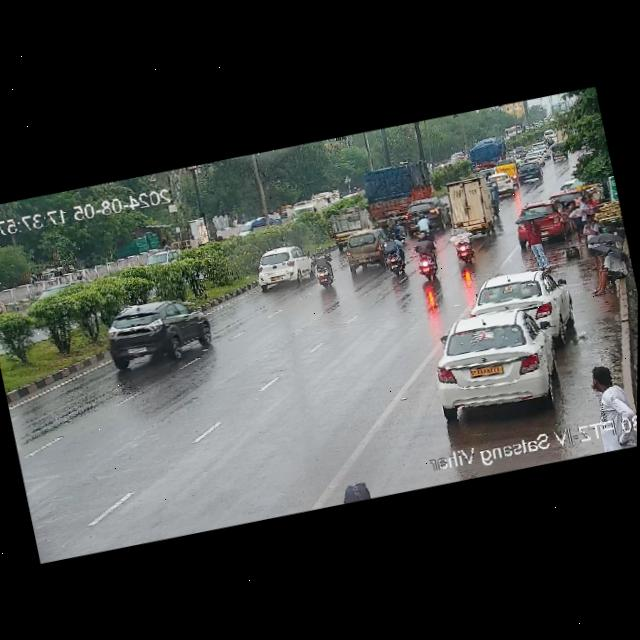car: (428, 302, 570, 422), (94, 287, 215, 373), (471, 262, 571, 339), (247, 243, 313, 291), (336, 226, 387, 273), (402, 192, 451, 234), (537, 196, 570, 239), (508, 139, 552, 166), (144, 244, 181, 267), (515, 158, 542, 186), (494, 161, 522, 187), (489, 171, 519, 195), (545, 185, 581, 204), (549, 141, 568, 162), (524, 149, 543, 164), (0, 285, 3, 319)
motorcycle: (409, 229, 442, 280), (304, 240, 337, 290), (377, 231, 406, 277), (448, 224, 477, 265), (418, 213, 431, 239), (412, 210, 425, 229)
person: (578, 349, 633, 417), (513, 206, 555, 275), (587, 249, 631, 298), (339, 478, 383, 504), (565, 196, 586, 243), (578, 193, 603, 232)
truck: (358, 158, 433, 215), (441, 170, 499, 236), (329, 199, 372, 242), (464, 135, 505, 173), (291, 189, 342, 218), (501, 123, 524, 139)
